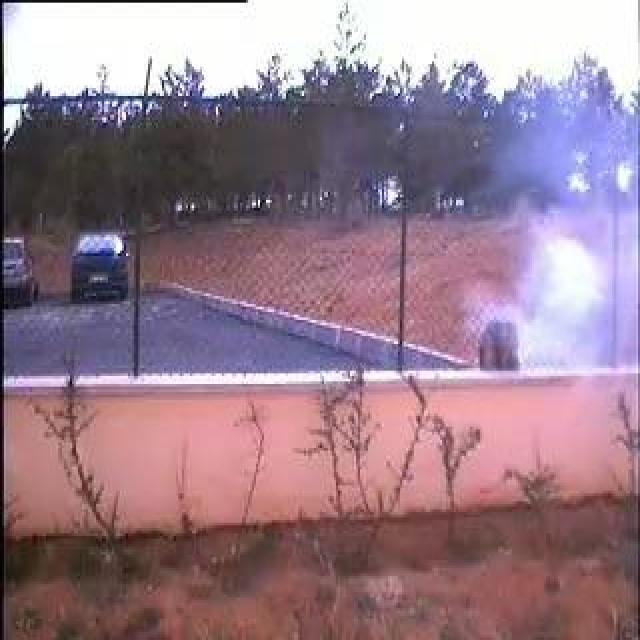Smoke: (467, 117, 613, 368)
